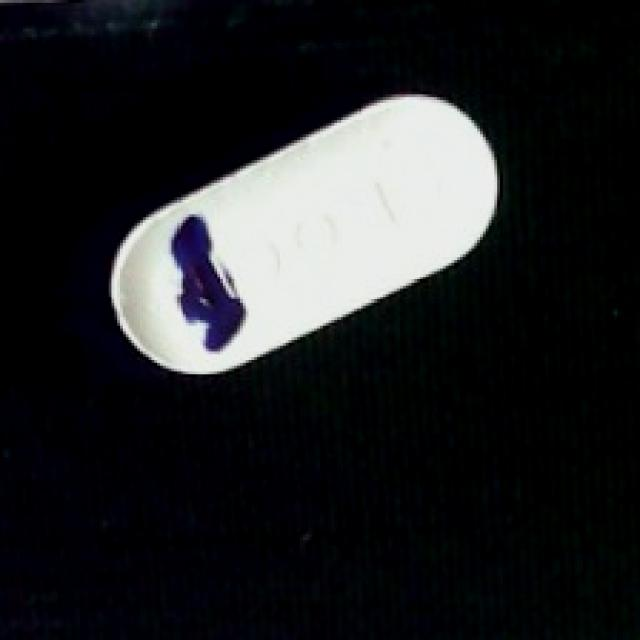defected: (97, 88, 506, 382)
